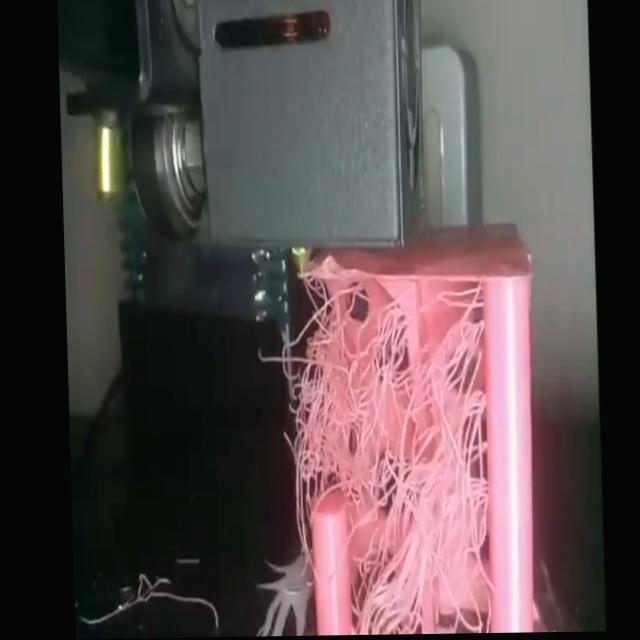spaghetti: (267, 273, 487, 637)
